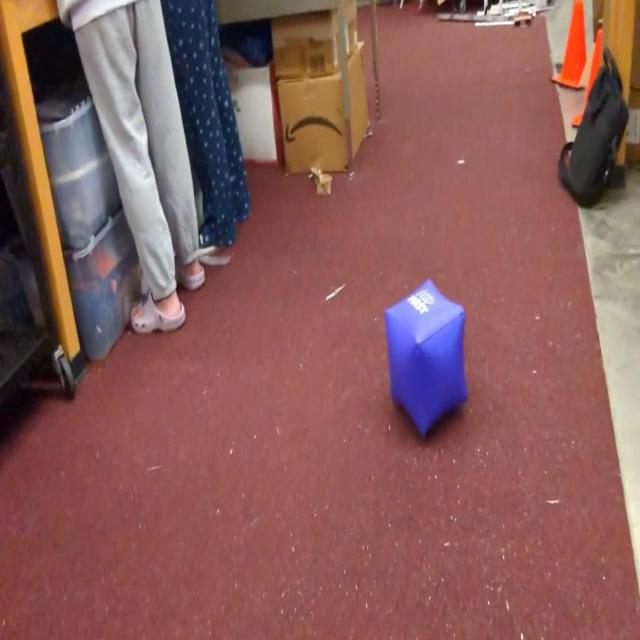frc_cube: (383, 279, 471, 441)
